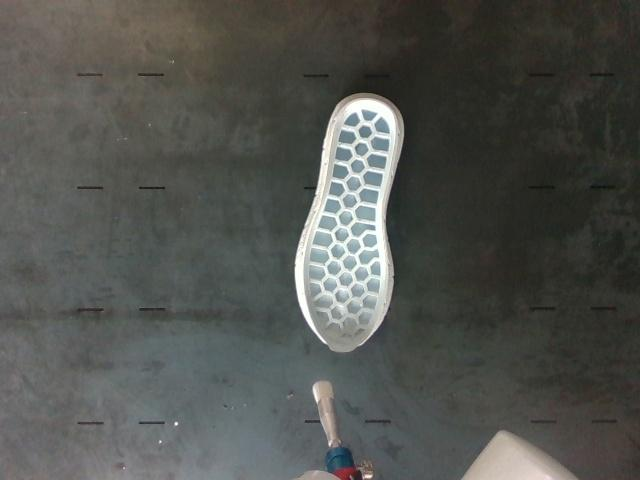shoes: (303, 99, 396, 351)
